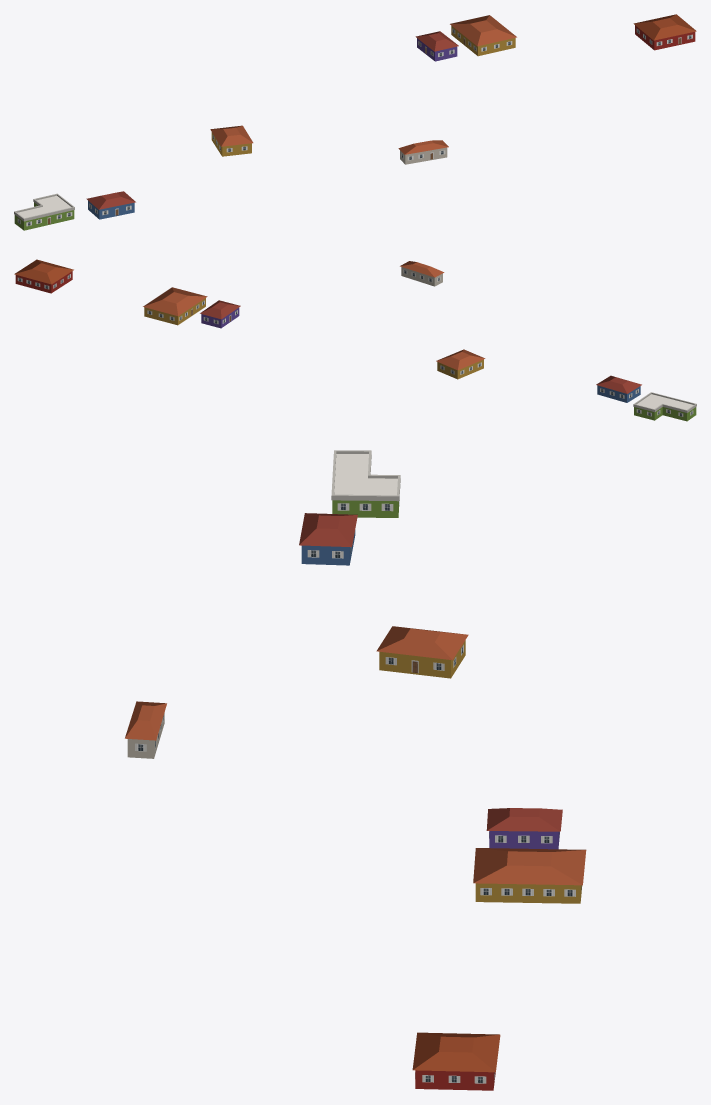
The model's file is msb_sannicolas_13_22.glb.
3 views of the same model, one above another, from view 1: azimuth 30°, elevation 25°; view 2: azimuth 150°, elevation 25°; view 3: azimuth 270°, elevation 25° (orthographic). The views are drawn at different scales.
Parts seen in each view (by area): view 1: msb_sannicolas_13_22_lod0; view 2: msb_sannicolas_13_22_lod0; view 3: msb_sannicolas_13_22_lod0.
Boxes of the visible parts, bbox=[...] form: msb_sannicolas_13_22_lod0: bbox=[14, 14, 696, 230]; msb_sannicolas_13_22_lod0: bbox=[14, 259, 696, 421]; msb_sannicolas_13_22_lod0: bbox=[125, 450, 586, 1090].
Size of what is drawn, in the model's own units: 240 by 14.03 by 74.77.
Materials: 3 (1 with a texture image).
